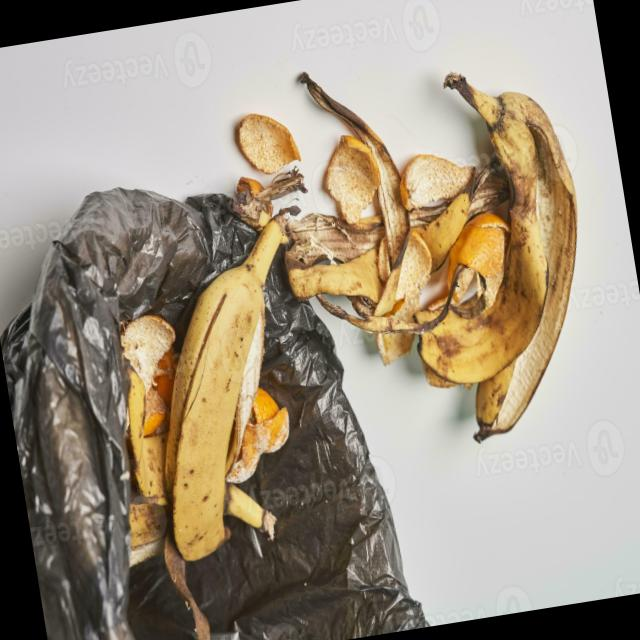banana_peel: (379, 65, 598, 473), (122, 181, 316, 582)
